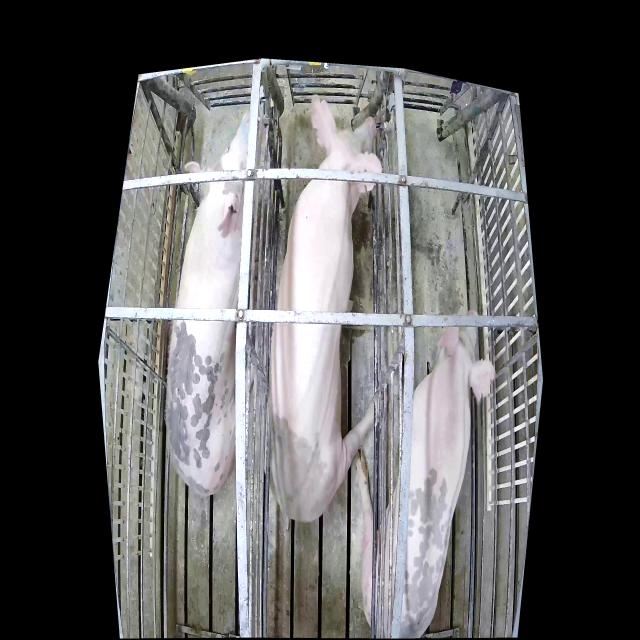pig: (269, 97, 384, 526), (357, 302, 497, 636), (166, 111, 266, 497)
